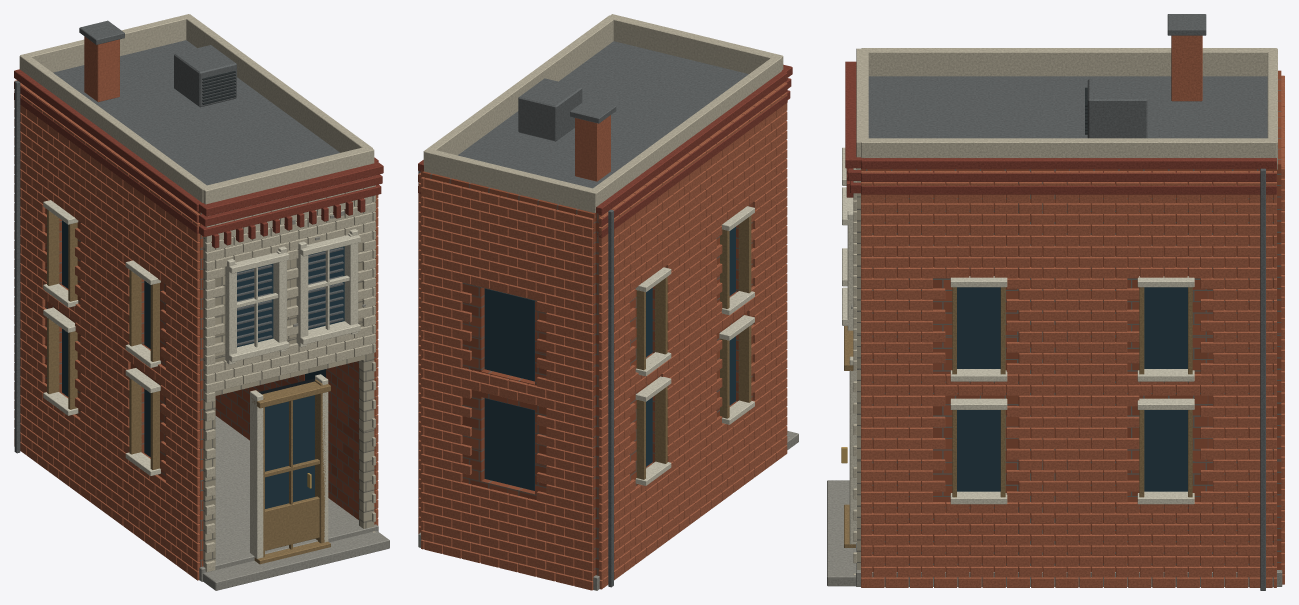
The model's file is CLSTGA14_lod0.glb.
3 renders of one model, left to right at view 1: azimuth 30°, elevation 25°; view 2: azimuth 150°, elevation 25°; view 3: azimuth 270°, elevation 25°, orthographic. The views are drawn at different scales.
Visible parts, largest first — view 1: CLSTGA14_LOD0; view 2: CLSTGA14_LOD0; view 3: CLSTGA14_LOD0.
Part boxes in pixels (x1,y1,x2,y2): CLSTGA14_LOD0: [14, 14, 389, 590]; CLSTGA14_LOD0: [418, 14, 798, 590]; CLSTGA14_LOD0: [827, 14, 1284, 590].
Size of the model in its own units: 3.71 by 7.85 by 6.6.
17 materials, 14 textured.
